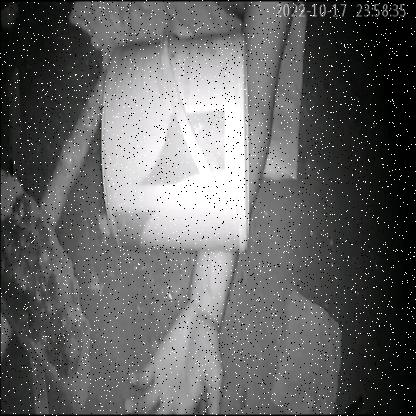hand: (116, 271, 273, 416)
